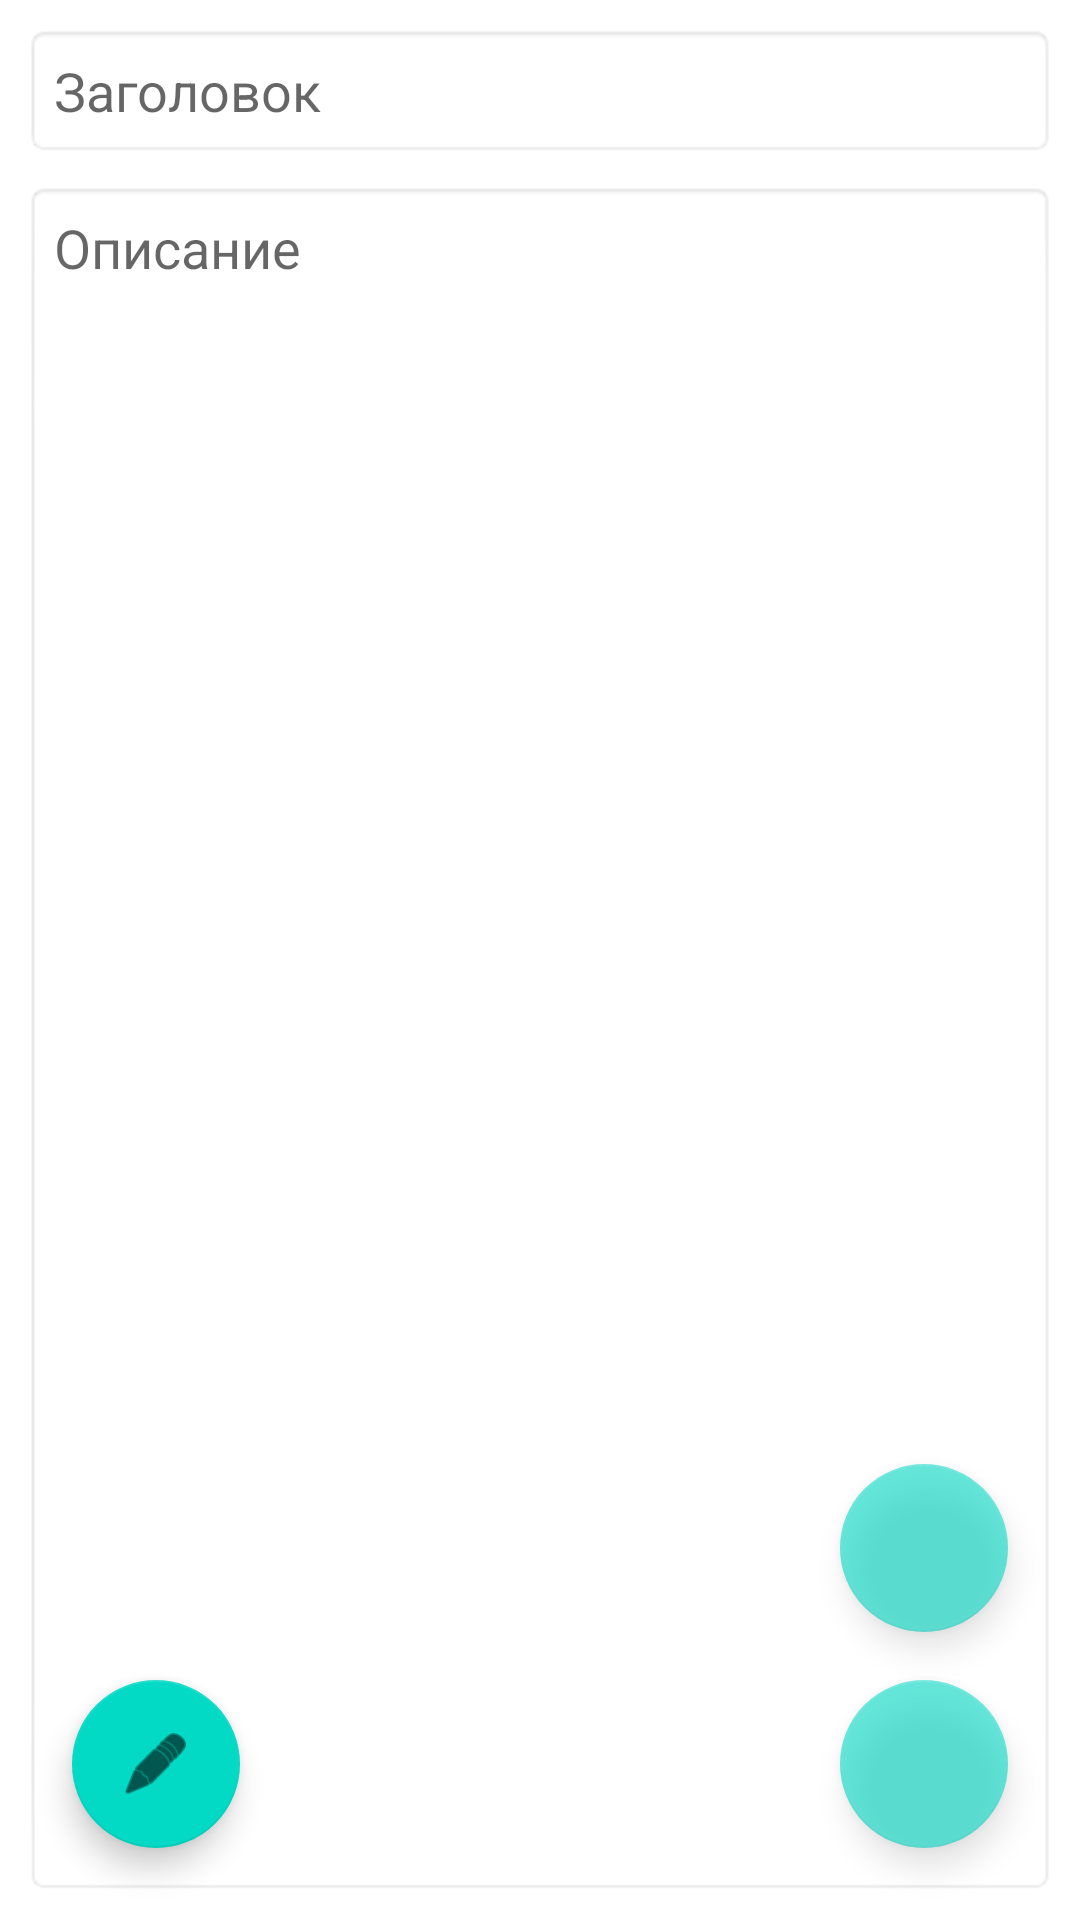

Icons on this 1080*1920 Android screen, each with the point to tap as [x,y]:
edit: [156,1764]
